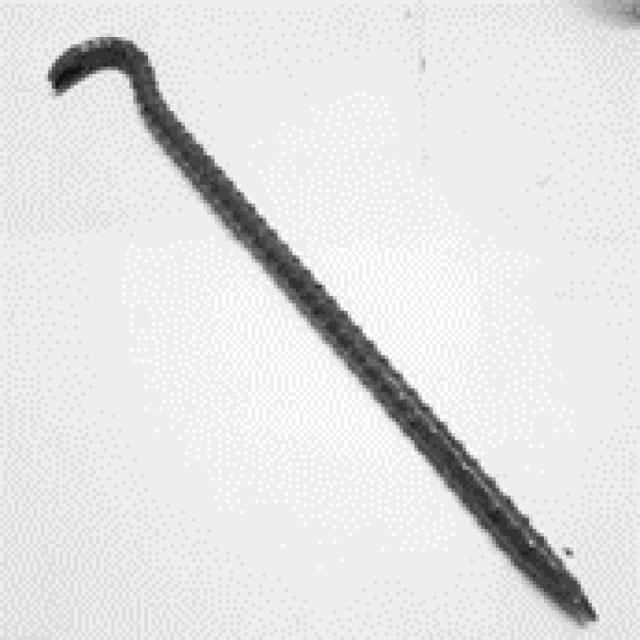Linggis: (39, 24, 608, 625)
